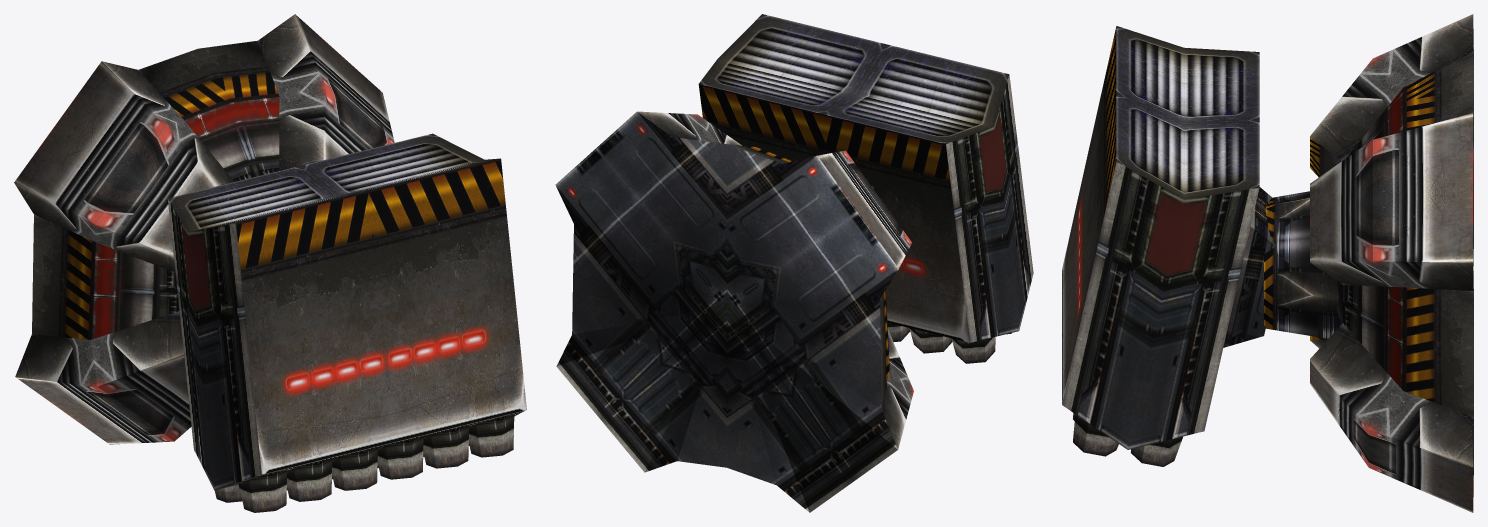
Rendered from r-launcher-01.obj.
The picture shows the model from 3 angles, left to right: view 1: azimuth 30°, elevation 25°; view 2: azimuth 150°, elevation 25°; view 3: azimuth 270°, elevation 25°; orthographic projection. The views are drawn at different scales.
Parts seen in each view (by area): view 1: gun_01, body; view 2: body, gun_01; view 3: gun_01, body, head.
Boxes of the visible parts, x1,y1,x2,y2 form: gun_01: [167, 133, 526, 512]; body: [14, 14, 394, 444]; body: [555, 111, 913, 512]; gun_01: [698, 14, 1033, 363]; gun_01: [1062, 26, 1275, 466]; body: [1310, 14, 1473, 512]; head: [1263, 191, 1340, 338].
Bounding box in the file's own units: 4.1 × 4.1 × 3.78.
Materials: 1 (1 with a texture image).
